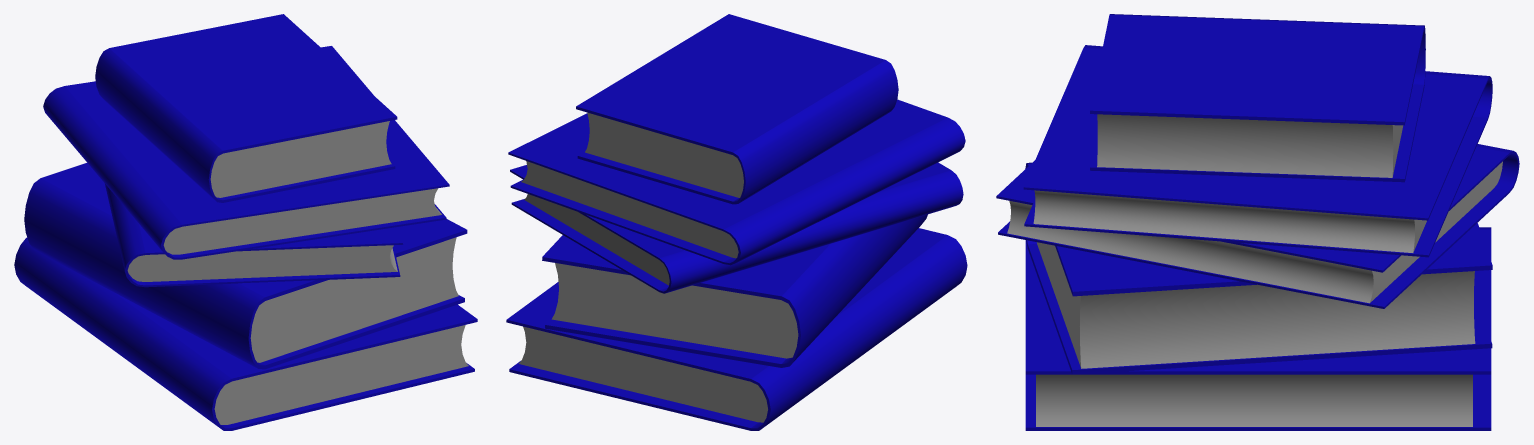
3 renders of one model, left to right at view 1: azimuth 30°, elevation 25°; view 2: azimuth 150°, elevation 25°; view 3: azimuth 270°, elevation 25°, orthographic. The views are drawn at different scales.
Parts seen in each view (by area): view 1: cover004, cover003, cover001, cover, Paper001, Paper, Paper004, Paper003, Paper002, cover002; view 2: cover004, cover003, cover, cover001, Paper001, cover002, Paper, Paper004, Paper003, Paper002; view 3: cover004, Paper001, cover003, Paper, Paper004, cover, Paper003, Paper002, cover001, cover002.
Part boxes in pixels (box(x1,y1,x2,y2)): cover004: box(95, 14, 397, 202); cover003: box(43, 46, 449, 259); cover001: box(24, 163, 467, 369); cover: box(14, 237, 477, 430); Paper001: box(250, 237, 458, 362); Paper: box(214, 325, 468, 424); Paper004: box(210, 121, 391, 197); Paper003: box(163, 188, 441, 254); Paper002: box(127, 245, 397, 281); cover002: box(105, 184, 403, 287); cover004: box(576, 14, 898, 204); cover003: box(508, 99, 965, 265); cover: box(506, 228, 967, 430); cover001: box(542, 214, 927, 367); Paper001: box(551, 263, 798, 358); cover002: box(510, 162, 963, 293); Paper: box(518, 326, 767, 422); Paper004: box(585, 112, 743, 197); Paper003: box(521, 161, 738, 258); Paper002: box(524, 194, 669, 285); cover004: box(1090, 14, 1425, 182); Paper001: box(1037, 242, 1475, 368); cover003: box(1023, 45, 1492, 257); Paper: box(1036, 374, 1472, 426); Paper004: box(1097, 114, 1403, 177); cover: box(1025, 227, 1491, 430); Paper003: box(1033, 190, 1426, 252); Paper002: box(1007, 161, 1502, 303); cover001: box(1025, 162, 1492, 374); cover002: box(996, 144, 1519, 308).
Bounding box in the file's own units: 1.82 × 1.23 × 2.
